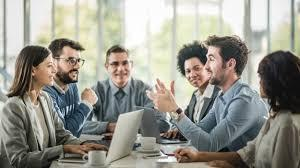No_Goggles: (184, 64, 205, 73)
